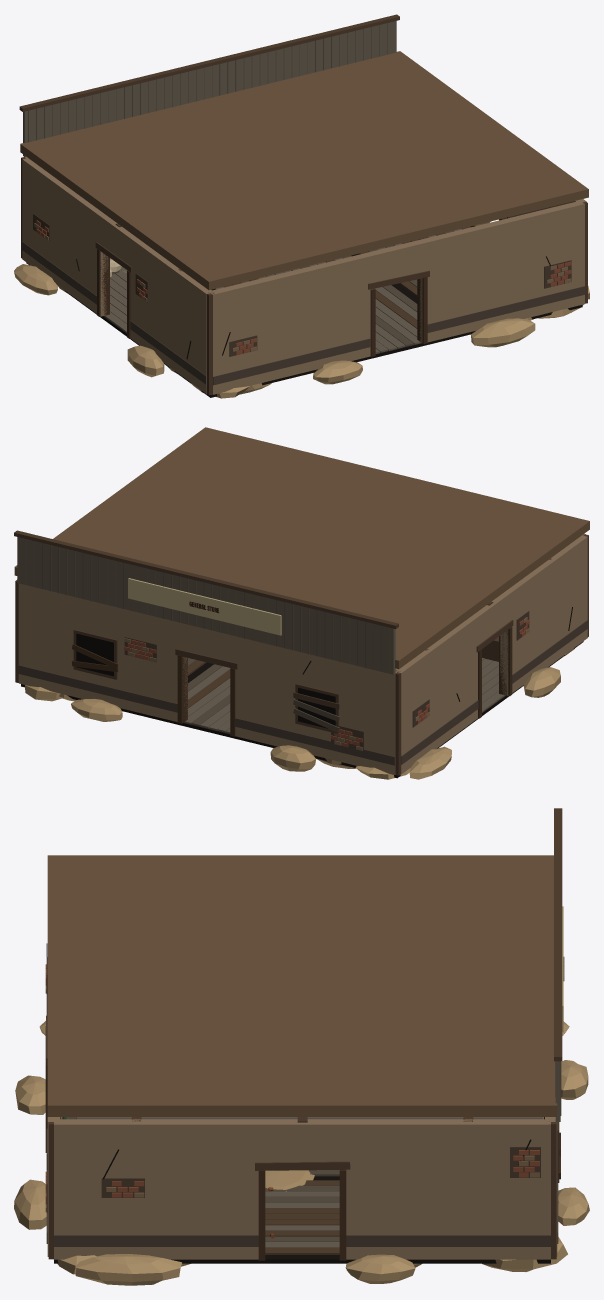
File: TownBldg_store.glb
The picture shows the model from 3 angles, top to bottom: view 1: azimuth 30°, elevation 25°; view 2: azimuth 150°, elevation 25°; view 3: azimuth 270°, elevation 25°; orthographic projection. The views are drawn at different scales.
Parts seen in each view (by area): view 1: TownBldg_store.001; view 2: TownBldg_store.001; view 3: TownBldg_store.001.
Boxes of the visible parts, x1,y1,x2,y2 form: TownBldg_store.001: (14,14,589,398); TownBldg_store.001: (14,427,589,779); TownBldg_store.001: (14,808,589,1285).
Size of the model in its own units: 15.91 by 5.97 by 13.9.
